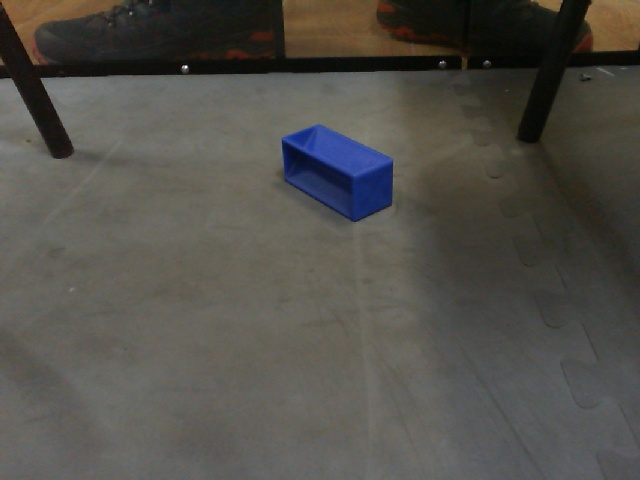BlueSample: (279, 124, 398, 227)
